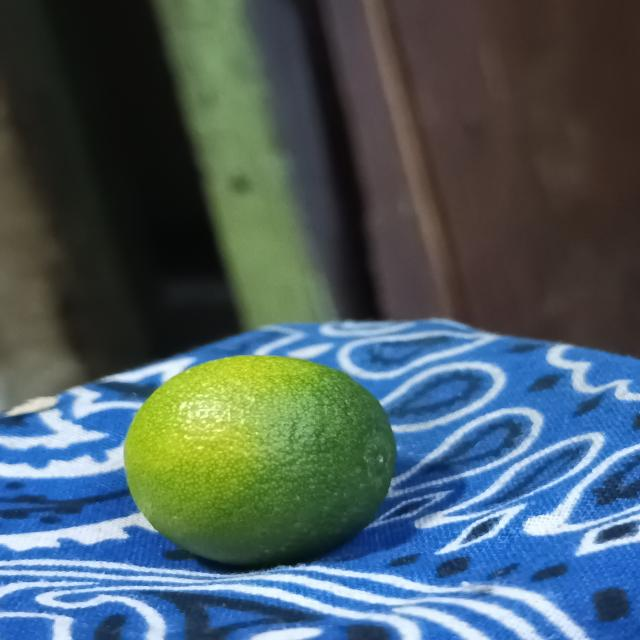heathy: (116, 351, 404, 569)
